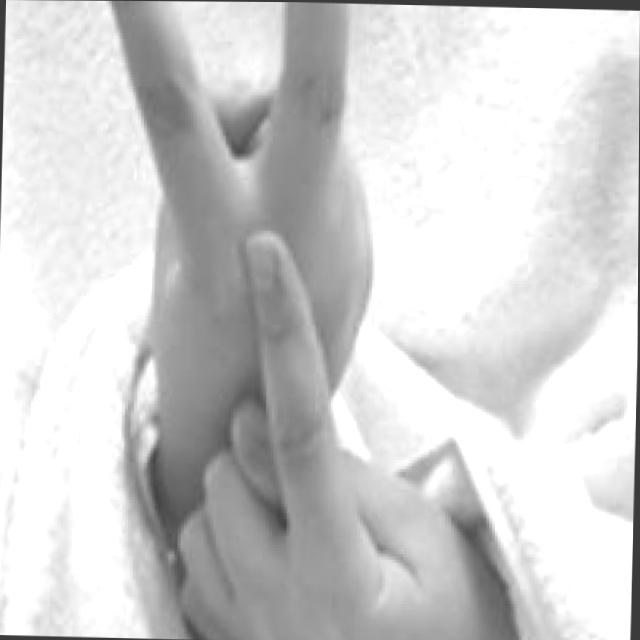Y: (92, 1, 496, 640)
